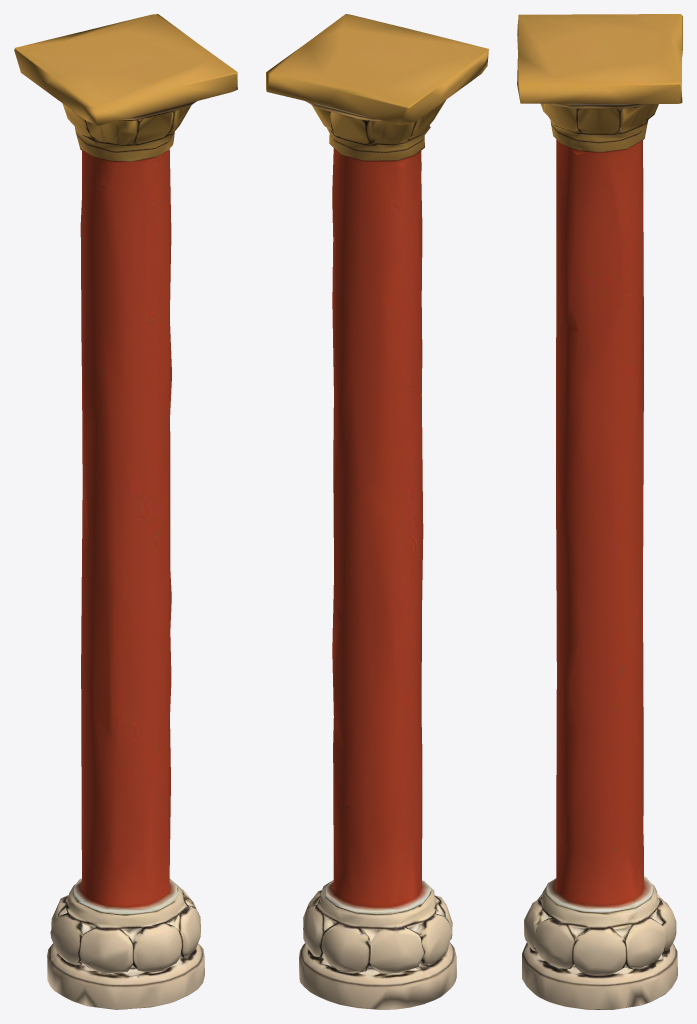
Rendered from column.glb.
3 views of the same model, side by side, from view 1: azimuth 30°, elevation 25°; view 2: azimuth 150°, elevation 25°; view 3: azimuth 270°, elevation 25° (orthographic).
Parts seen in each view (by area): view 1: kusuriuri; view 2: kusuriuri; view 3: kusuriuri.
Part boxes in pixels (x1,y1,x2,y2): kusuriuri: [14, 14, 237, 1009]; kusuriuri: [266, 14, 488, 1009]; kusuriuri: [517, 14, 682, 1009].
Size of the model in its own units: 0.5293 by 3.2 by 0.5182.
1 material, 1 textured.
